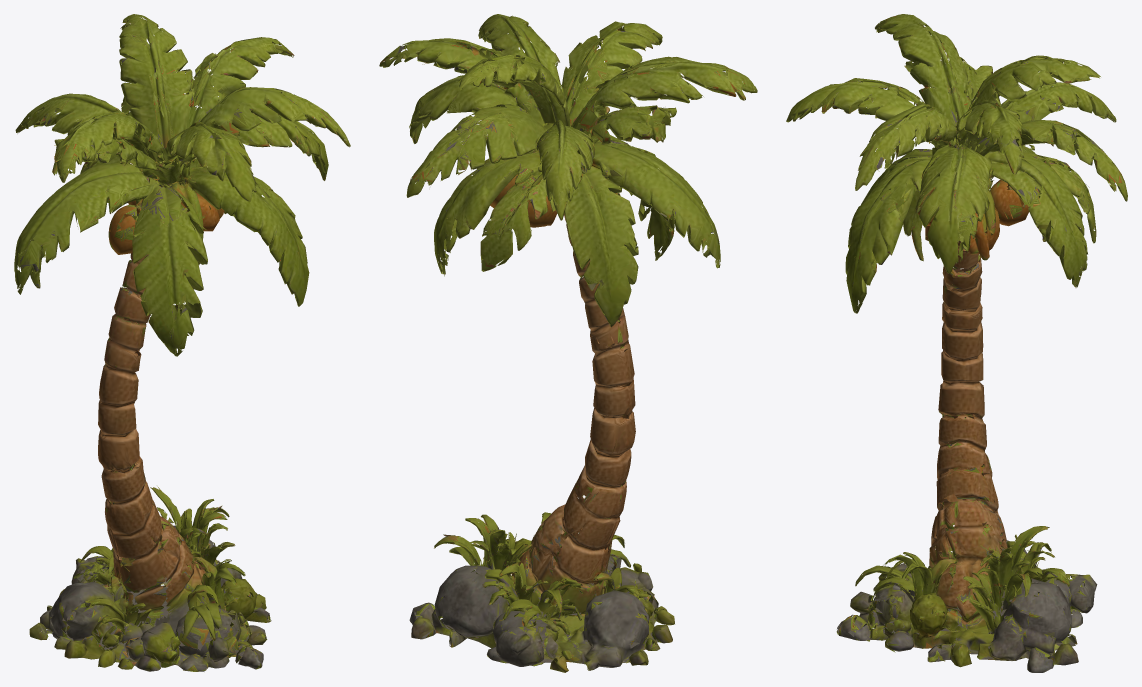
The model's file is palm.glb.
The picture shows the model from 3 angles, left to right: view 1: azimuth 30°, elevation 25°; view 2: azimuth 150°, elevation 25°; view 3: azimuth 270°, elevation 25°; orthographic projection. The views are drawn at different scales.
Size of the model in its own units: 1.06 by 1.9 by 1.03.
1 material, 1 textured.
